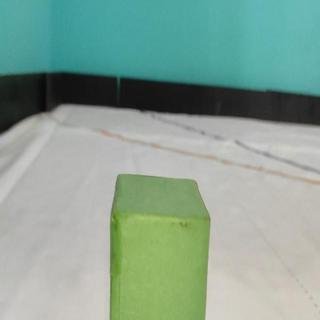greenbox: (105, 171, 212, 320)
